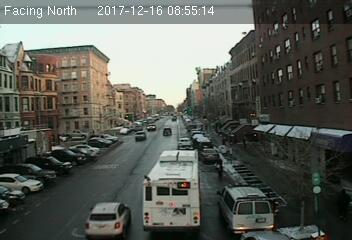bus: (141, 149, 201, 231)
car: (84, 199, 132, 238), (201, 148, 219, 163), (178, 136, 192, 147), (134, 130, 146, 141), (161, 127, 172, 136)
police: (216, 182, 277, 234)
